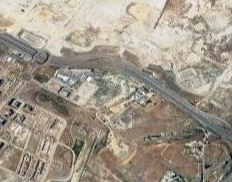bridge: (199, 167, 209, 179)
motorway: (97, 56, 192, 118), (1, 32, 115, 79), (177, 98, 232, 152)
